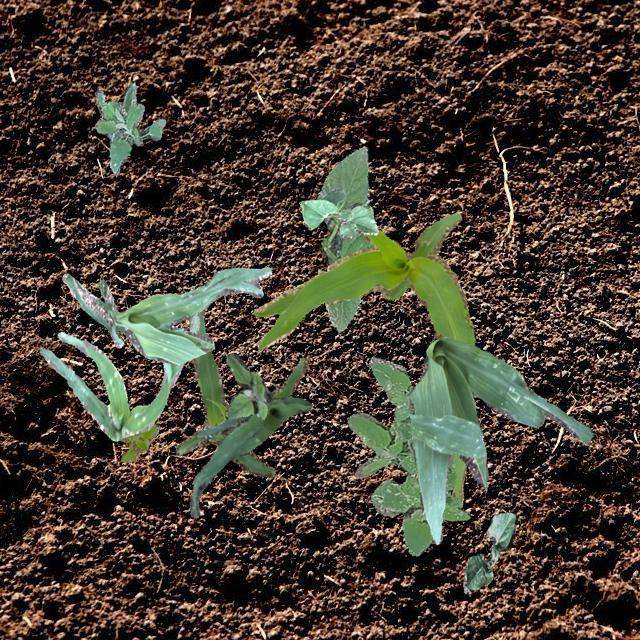crop: (251, 212, 474, 506), (406, 336, 592, 544), (174, 309, 308, 476), (61, 266, 270, 364), (38, 314, 198, 441), (188, 386, 310, 518), (316, 146, 374, 332), (462, 510, 516, 592), (300, 186, 378, 238)
weed: (346, 356, 469, 554), (94, 81, 164, 172), (225, 352, 268, 418), (118, 424, 158, 462)
